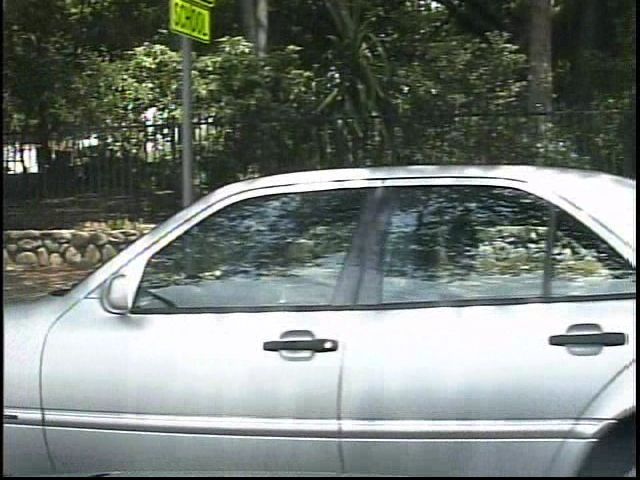car: (1, 146, 640, 478)
